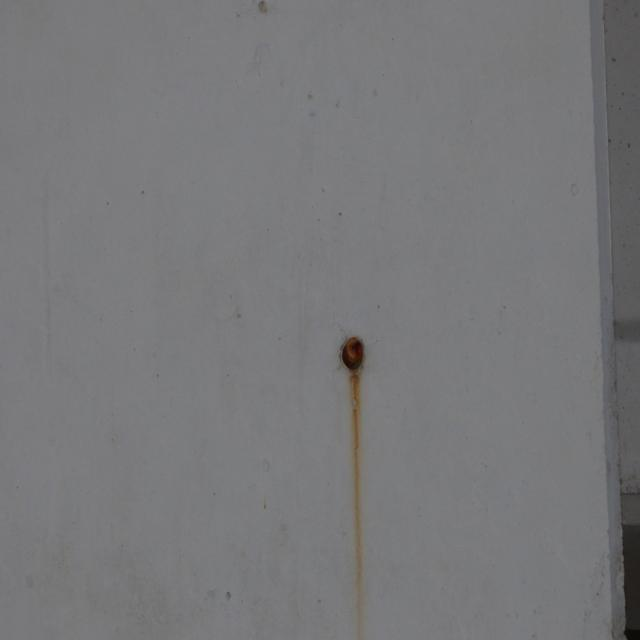corrosion: (332, 330, 383, 640)
